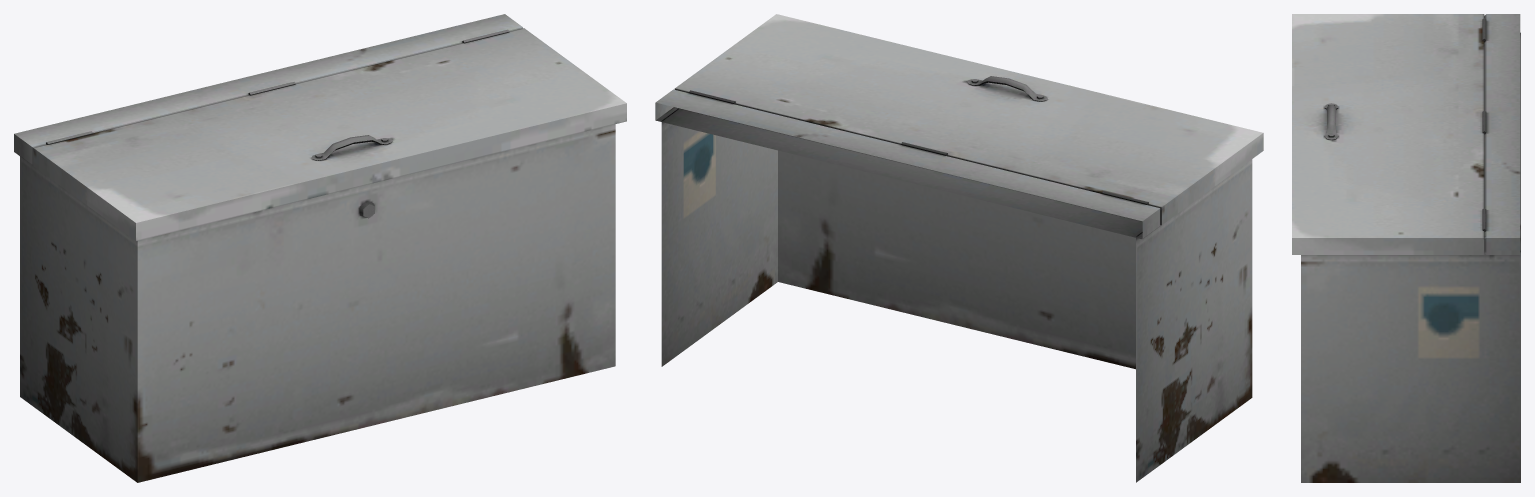
Rendered from caboose01_drawer01.glb.
3 views of the same model, side by side, from view 1: azimuth 30°, elevation 25°; view 2: azimuth 150°, elevation 25°; view 3: azimuth 270°, elevation 25° (orthographic). The views are drawn at different scales.
Visible parts, largest first — view 1: caboose01_drawer01; view 2: caboose01_drawer01; view 3: caboose01_drawer01.
Part boxes in pixels (x1=…): caboose01_drawer01: x1=14, y1=14, x2=626, y2=482; caboose01_drawer01: x1=655, y1=14, x2=1263, y2=482; caboose01_drawer01: x1=1292, y1=14, x2=1520, y2=482.
Size of the model in its own units: 1.14 by 0.6148 by 0.4925.
1 material, 1 textured.
